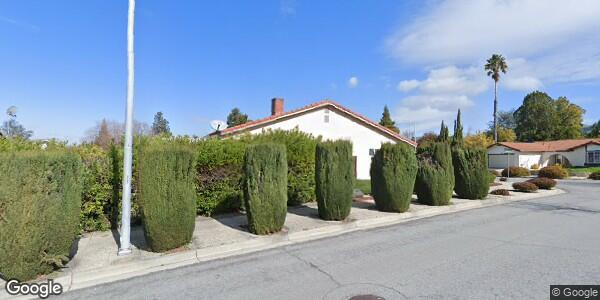Steel_Pole: (112, 1, 139, 258)
